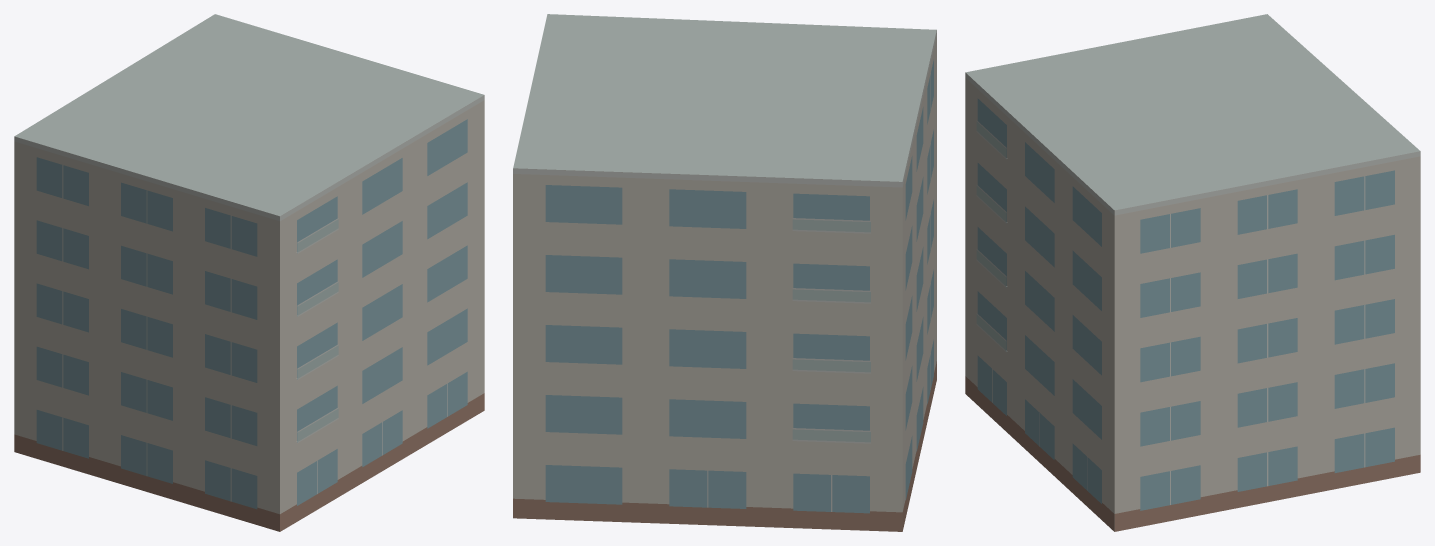
Rendered from survey-upis-32605807.glb.
The picture shows the model from 3 angles, left to right: view 1: azimuth 30°, elevation 25°; view 2: azimuth 150°, elevation 25°; view 3: azimuth 270°, elevation 25°; orthographic projection. The views are drawn at different scales.
Visible parts, largest first — view 1: survey-upis-32605807.tmp; view 2: survey-upis-32605807.tmp; view 3: survey-upis-32605807.tmp.
Part boxes in pixels (x1=…): survey-upis-32605807.tmp: x1=14, y1=14, x2=484, y2=531; survey-upis-32605807.tmp: x1=513, y1=14, x2=936, y2=531; survey-upis-32605807.tmp: x1=965, y1=14, x2=1420, y2=531.
Bounding box in the file's own units: 20 × 15.25 × 19.59.
